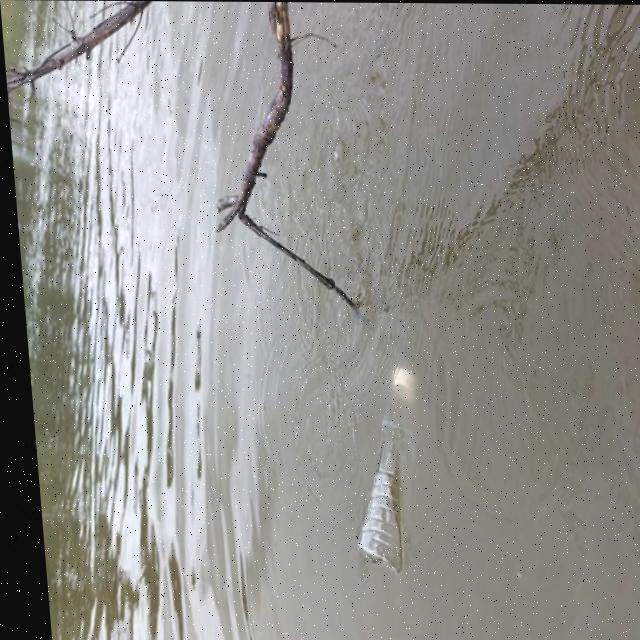waterbottle: (320, 367, 439, 580)
